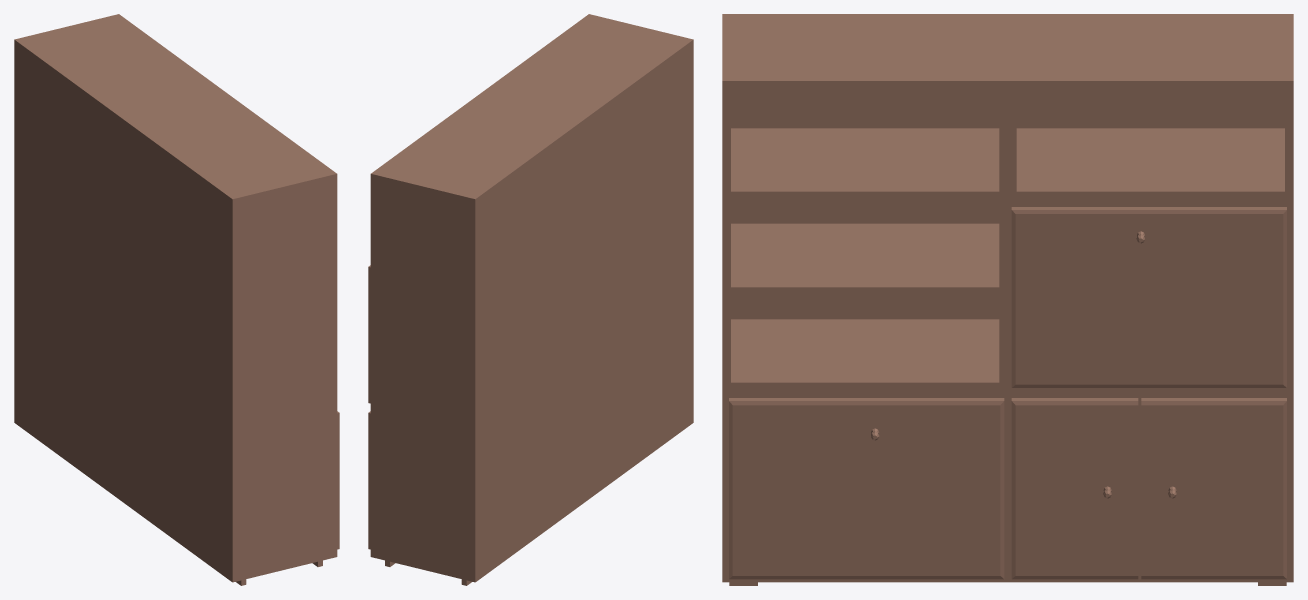
File: drawer.fbx
The picture shows the model from 3 angles, left to right: view 1: azimuth 30°, elevation 25°; view 2: azimuth 150°, elevation 25°; view 3: azimuth 270°, elevation 25°; orthographic projection. The views are drawn at different scales.
Parts seen in each view (by area): view 1: komoda; view 2: komoda; view 3: komoda.
Boxes of the visible parts, x1,y1,x2,y2 form: komoda: (14,14,339,585); komoda: (368,14,693,585); komoda: (722,14,1293,585).
Size of the model in its own units: 22.59 by 71.5 by 72.25.
